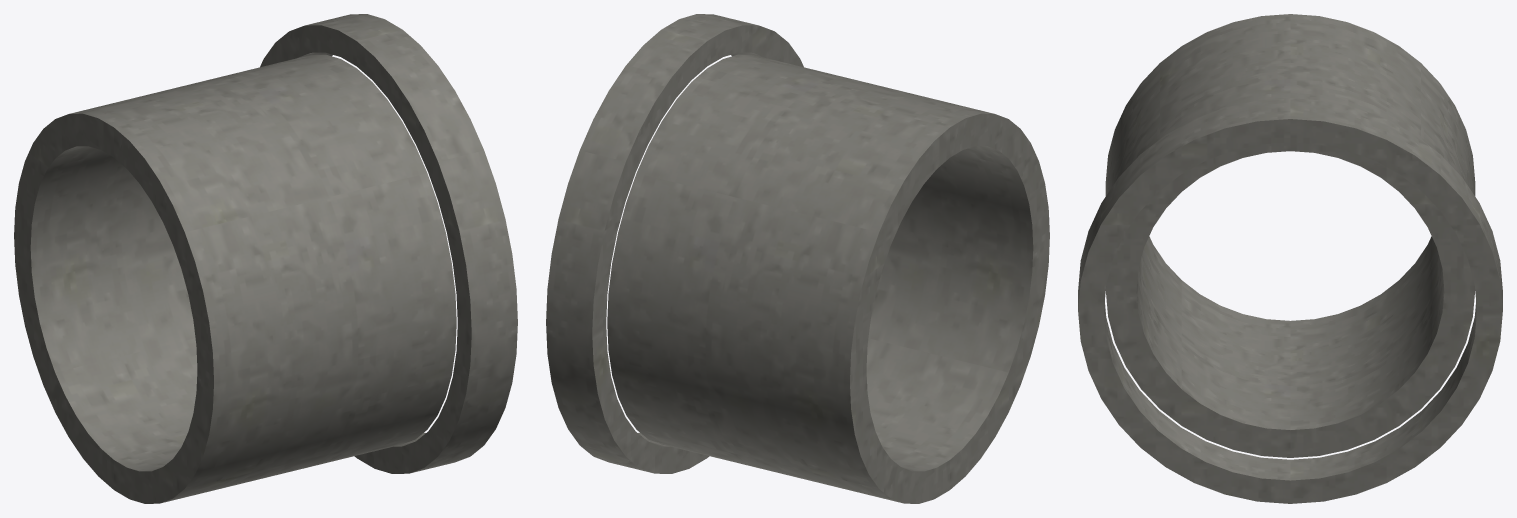
Rendered from HID-DRN-003_lod1.glb.
3 views of the same model, side by side, from view 1: azimuth 30°, elevation 25°; view 2: azimuth 150°, elevation 25°; view 3: azimuth 270°, elevation 25° (orthographic). The views are drawn at different scales.
Visible parts, largest first — view 1: HID-DRN-003_tubo, HID-DRN-003_bolsa; view 2: HID-DRN-003_tubo, HID-DRN-003_bolsa; view 3: HID-DRN-003_tubo, HID-DRN-003_bolsa.
Boxes of the visible parts, x1=… form: HID-DRN-003_tubo: x1=14, y1=54, x2=456, y2=503; HID-DRN-003_bolsa: x1=260, y1=14, x2=517, y2=473; HID-DRN-003_tubo: x1=607, y1=54, x2=1049, y2=503; HID-DRN-003_bolsa: x1=546, y1=14, x2=803, y2=473; HID-DRN-003_tubo: x1=1105, y1=14, x2=1475, y2=457; HID-DRN-003_bolsa: x1=1078, y1=98, x2=1502, y2=503.
Bounding box in the file's own units: 1 × 1.38 × 1.38.
1 material, 1 textured.
